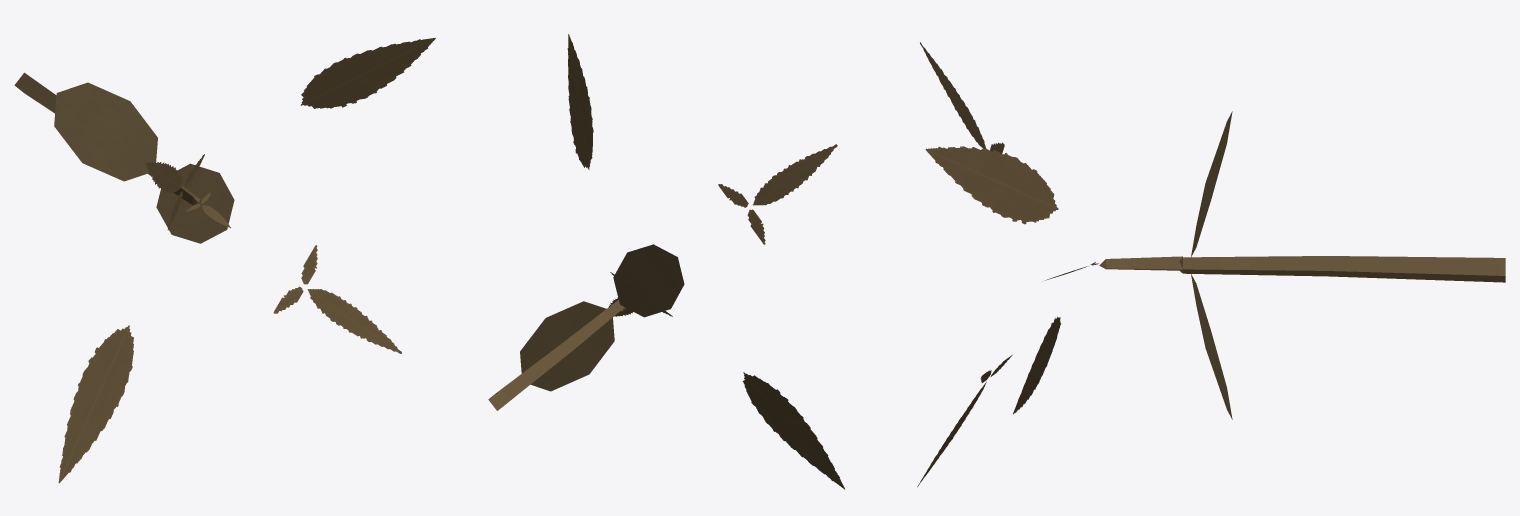
File: p_seedling_c3_cards.obj
The picture shows the model from 3 angles, left to right: view 1: azimuth 30°, elevation 25°; view 2: azimuth 150°, elevation 25°; view 3: azimuth 270°, elevation 25°; orthographic projection. The views are drawn at different scales.
Size of the model in its own units: 0.464 by 0.504 by 0.538.
1 material, 1 textured.
